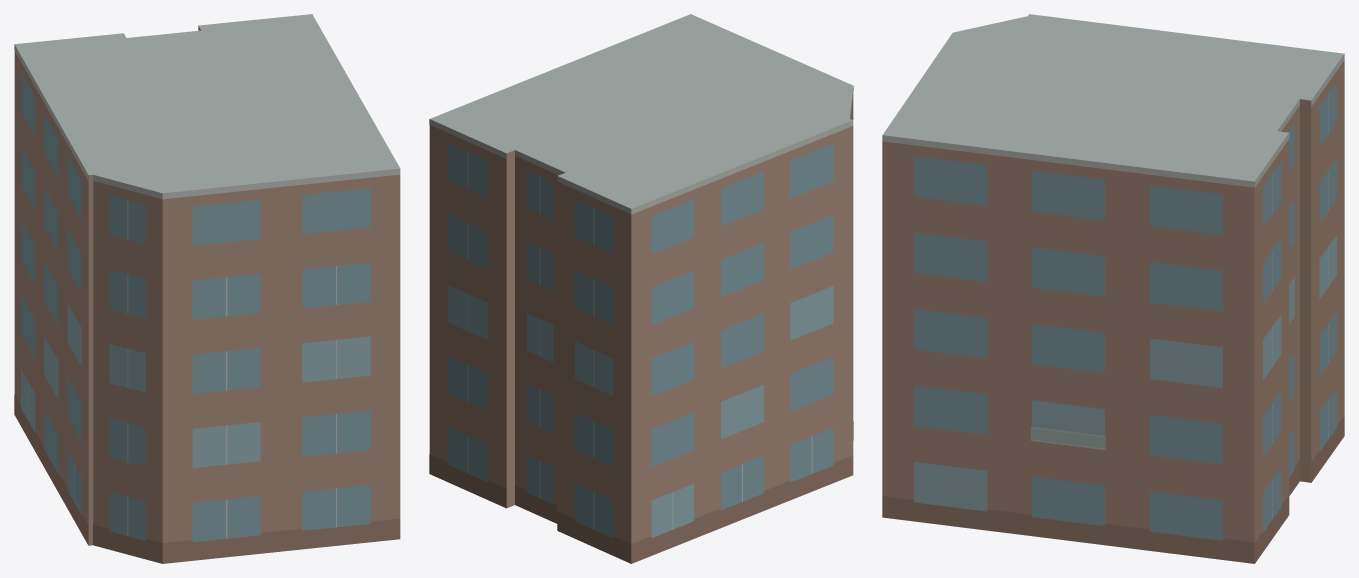
Rendered from survey-upis-32877589.glb.
The picture shows the model from 3 angles, left to right: view 1: azimuth 30°, elevation 25°; view 2: azimuth 150°, elevation 25°; view 3: azimuth 270°, elevation 25°; orthographic projection. The views are drawn at different scales.
Parts seen in each view (by area): view 1: survey-upis-32877589.tmp; view 2: survey-upis-32877589.tmp; view 3: survey-upis-32877589.tmp.
Boxes of the visible parts, box(x1,y1,x2,y2) form: survey-upis-32877589.tmp: box(14, 14, 400, 563); survey-upis-32877589.tmp: box(429, 14, 853, 563); survey-upis-32877589.tmp: box(882, 14, 1344, 563).
Size of the model in its own units: 14.3 by 15.2 by 16.67.
